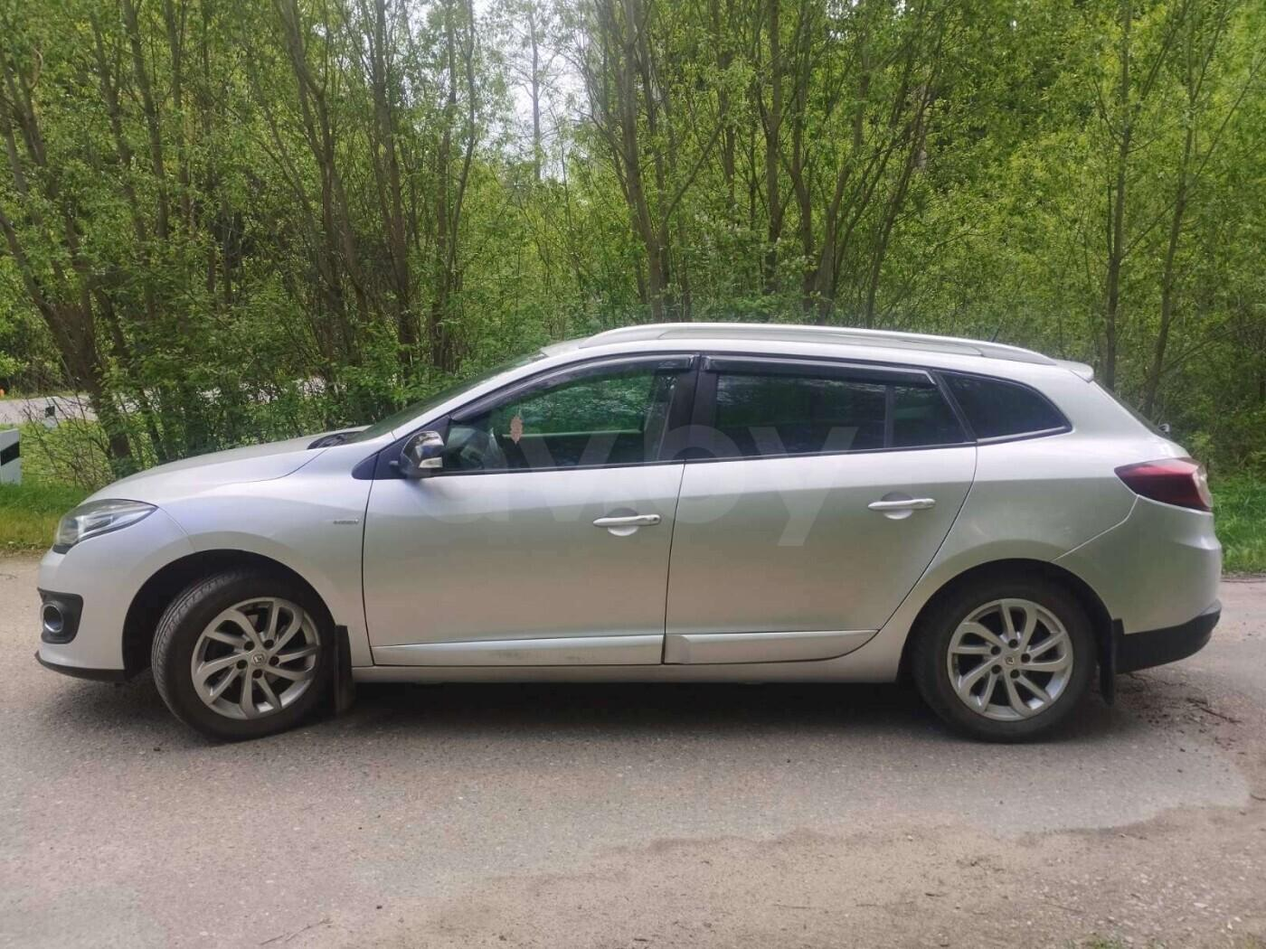Megane_2014-2016: (26, 319, 1225, 753)
